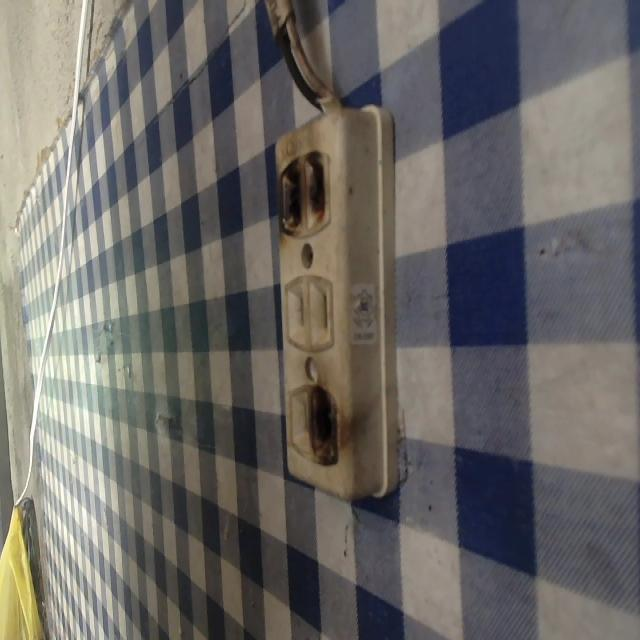-: (271, 150, 335, 238), (304, 380, 344, 475)
